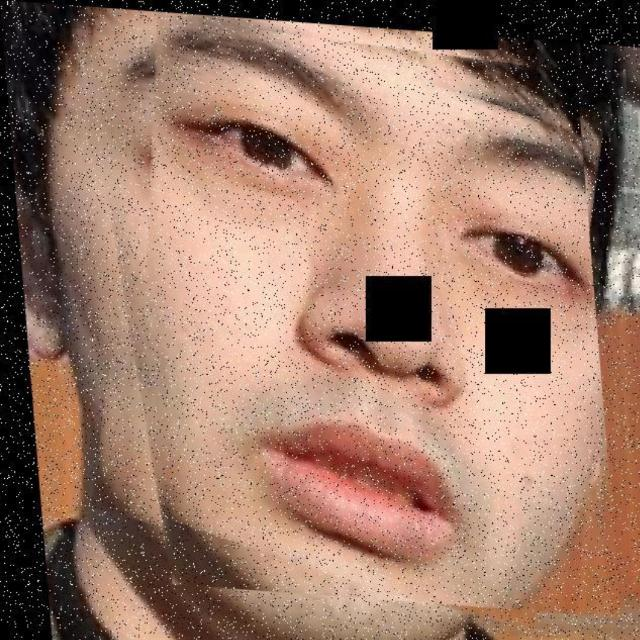Sad: (118, 0, 614, 638)
